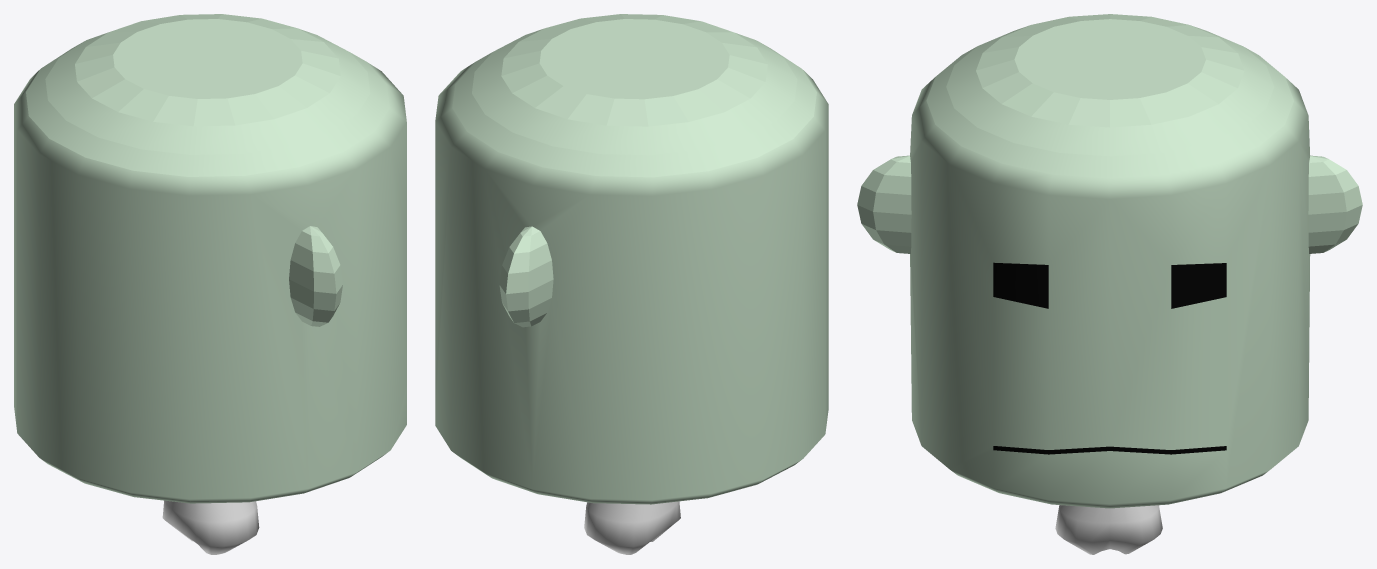
File: DeadHead.fbx
3 renders of one model, left to right at view 1: azimuth 30°, elevation 25°; view 2: azimuth 150°, elevation 25°; view 3: azimuth 270°, elevation 25°, orthographic.
Parts seen in each view (by area): view 1: pSphere2; view 2: pSphere2; view 3: pSphere2.
Part boxes in pixels (x1,y1,x2,y2): pSphere2: [14, 14, 406, 554]; pSphere2: [435, 14, 828, 554]; pSphere2: [857, 14, 1362, 554].
Size of the model in its own units: 12.55 by 17.11 by 15.99.
